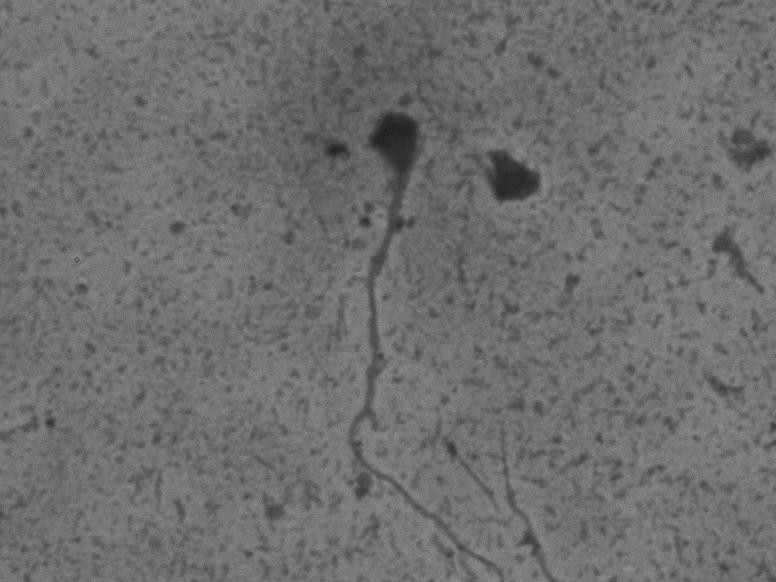Abnormal: (335, 99, 504, 574)
